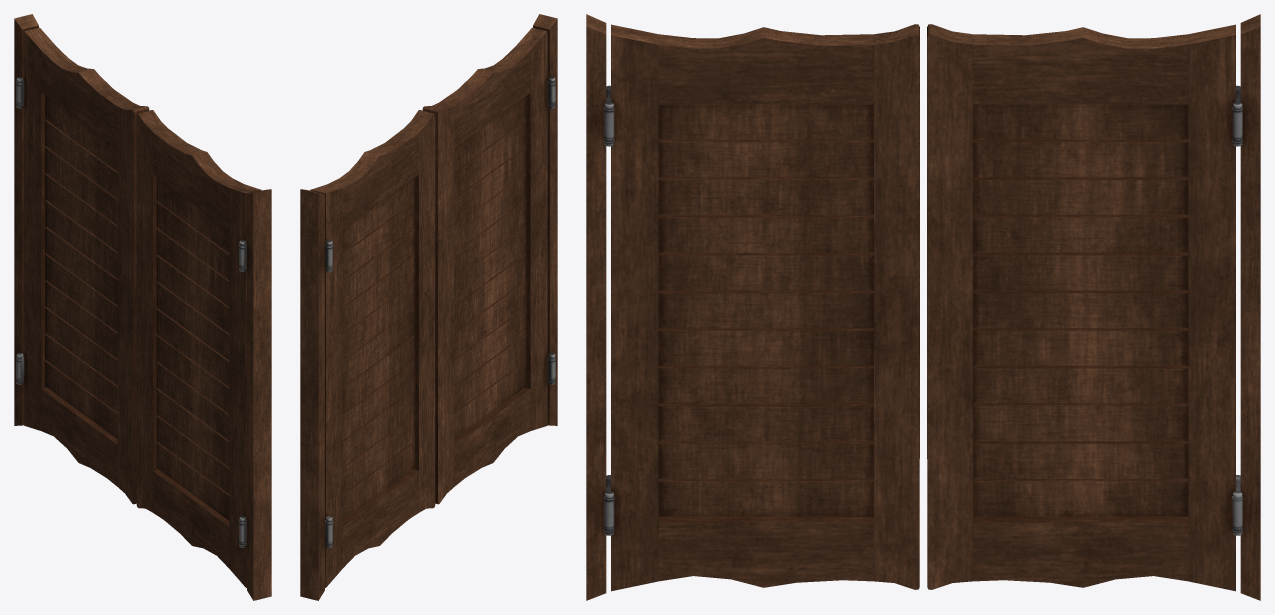
Rendered from saloon_doors.glb.
3 views of the same model, side by side, from view 1: azimuth 30°, elevation 25°; view 2: azimuth 150°, elevation 25°; view 3: azimuth 270°, elevation 25° (orthographic). The views are drawn at different scales.
Visible parts, largest first — view 1: wood_1_low, wood_2_low, hinge_low; view 2: wood_1_low, wood_2_low, hinge_low; view 3: wood_1_low, wood_2_low, hinge_low.
Part boxes in pixels (x1,y1,x2,y2): wood_1_low: (24, 27, 261, 587); wood_2_low: (14, 14, 271, 600); hinge_low: (16, 77, 246, 547); wood_1_low: (310, 27, 547, 587); wood_2_low: (300, 14, 557, 600); hinge_low: (325, 77, 555, 547); wood_1_low: (611, 24, 1235, 591); wood_2_low: (586, 14, 1260, 600); hinge_low: (604, 85, 1242, 535).
Bounding box in the file's own units: 8.06 × 104 × 111.
1 material, 1 textured.
